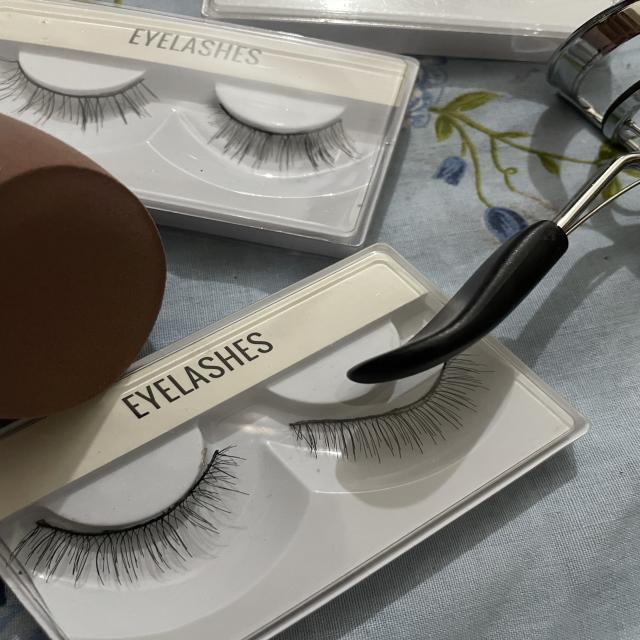beauty blender: (0, 111, 183, 426)
eyelash curler: (339, 0, 639, 404), (0, 416, 267, 610), (255, 348, 511, 488), (191, 69, 367, 184), (7, 34, 166, 137)
